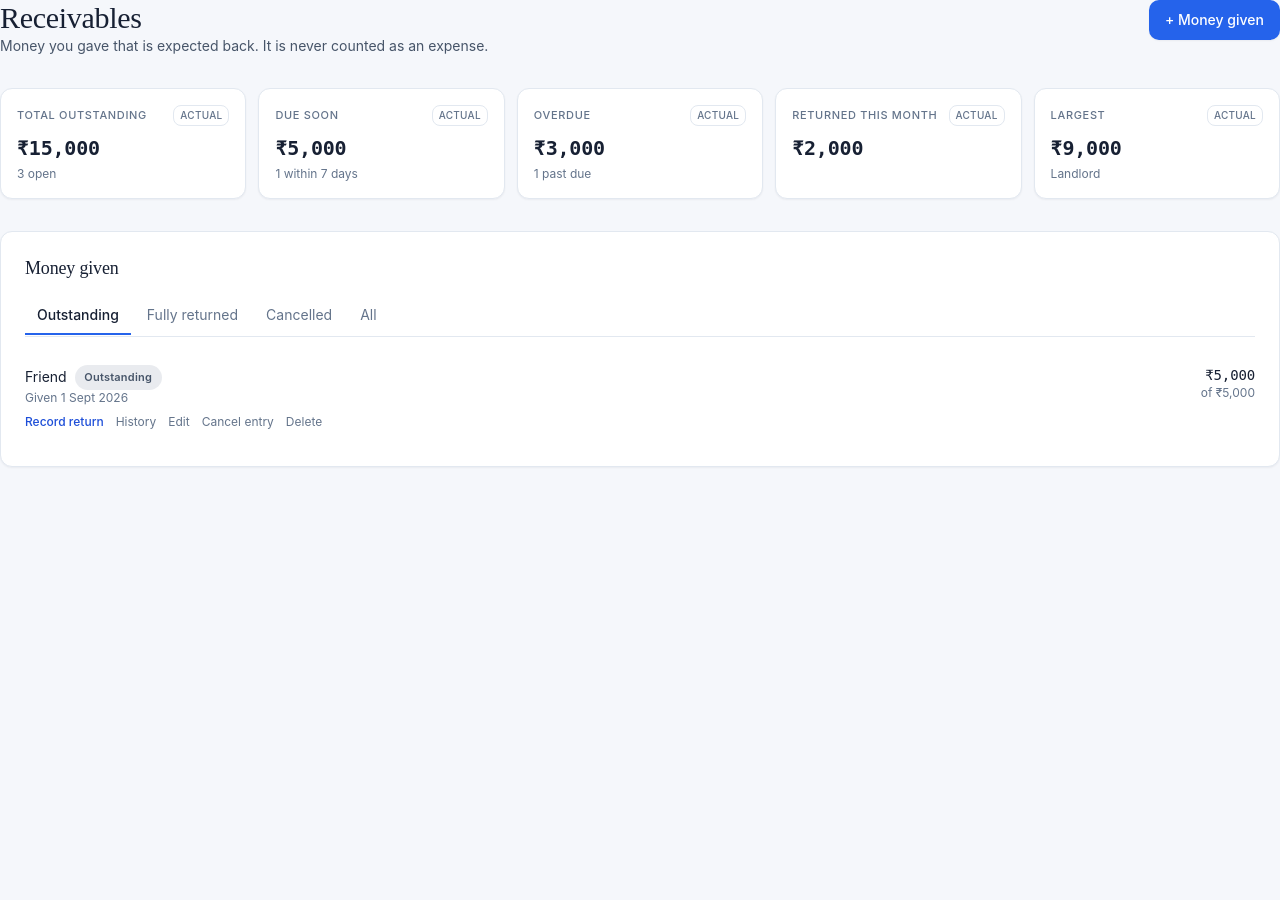
ReceivablesPage › recording a return (Part 57) › 'Full' fills in everything that is outstanding
Check: the text "Friend" is shown, box top-left (25, 368), bottom-right (67, 385)
Click the button "Record return". click: click(64, 422)
box: top-left (25, 414), bottom-right (104, 430)
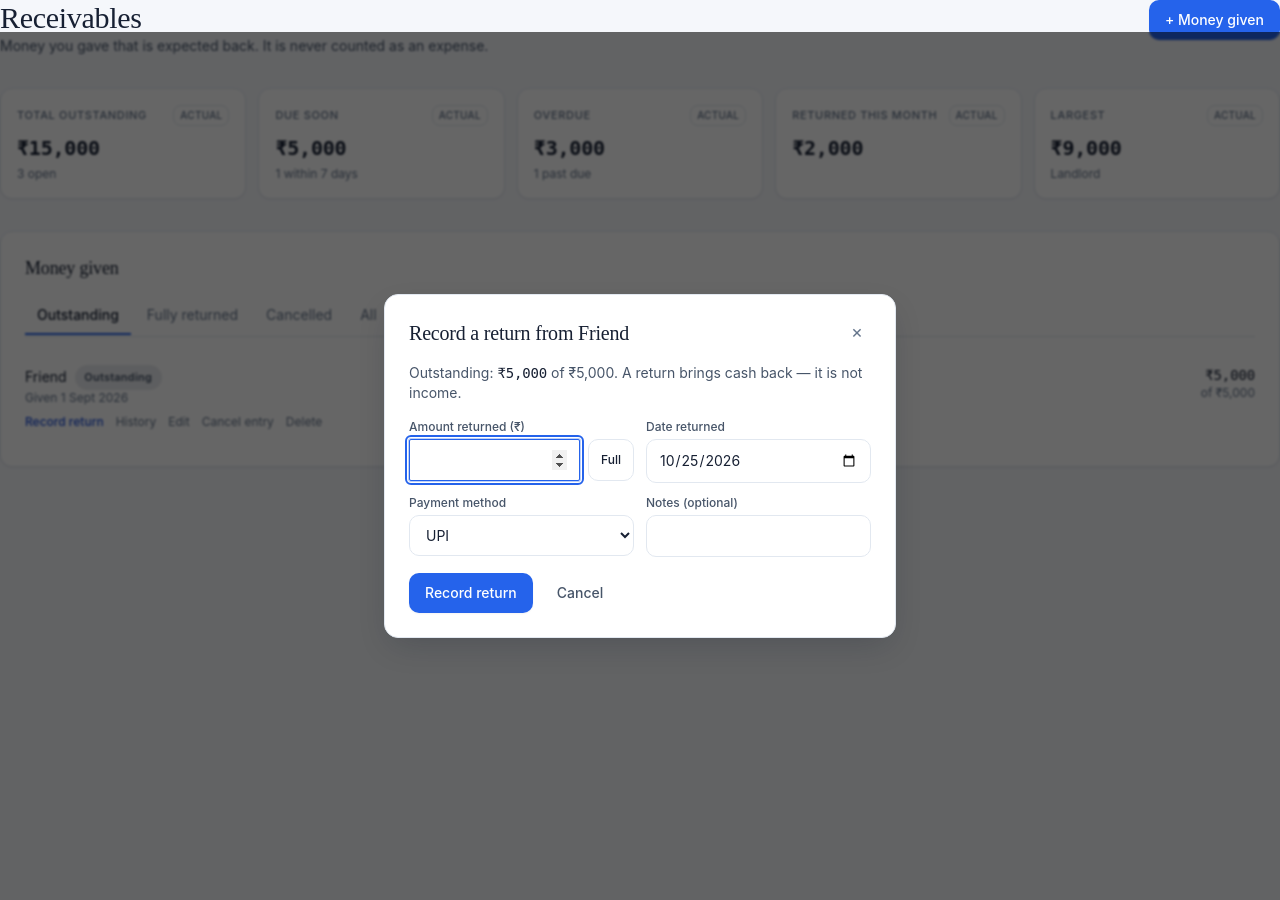
Click the button "Full". click: click(611, 460)
box: top-left (588, 439), bottom-right (634, 481)
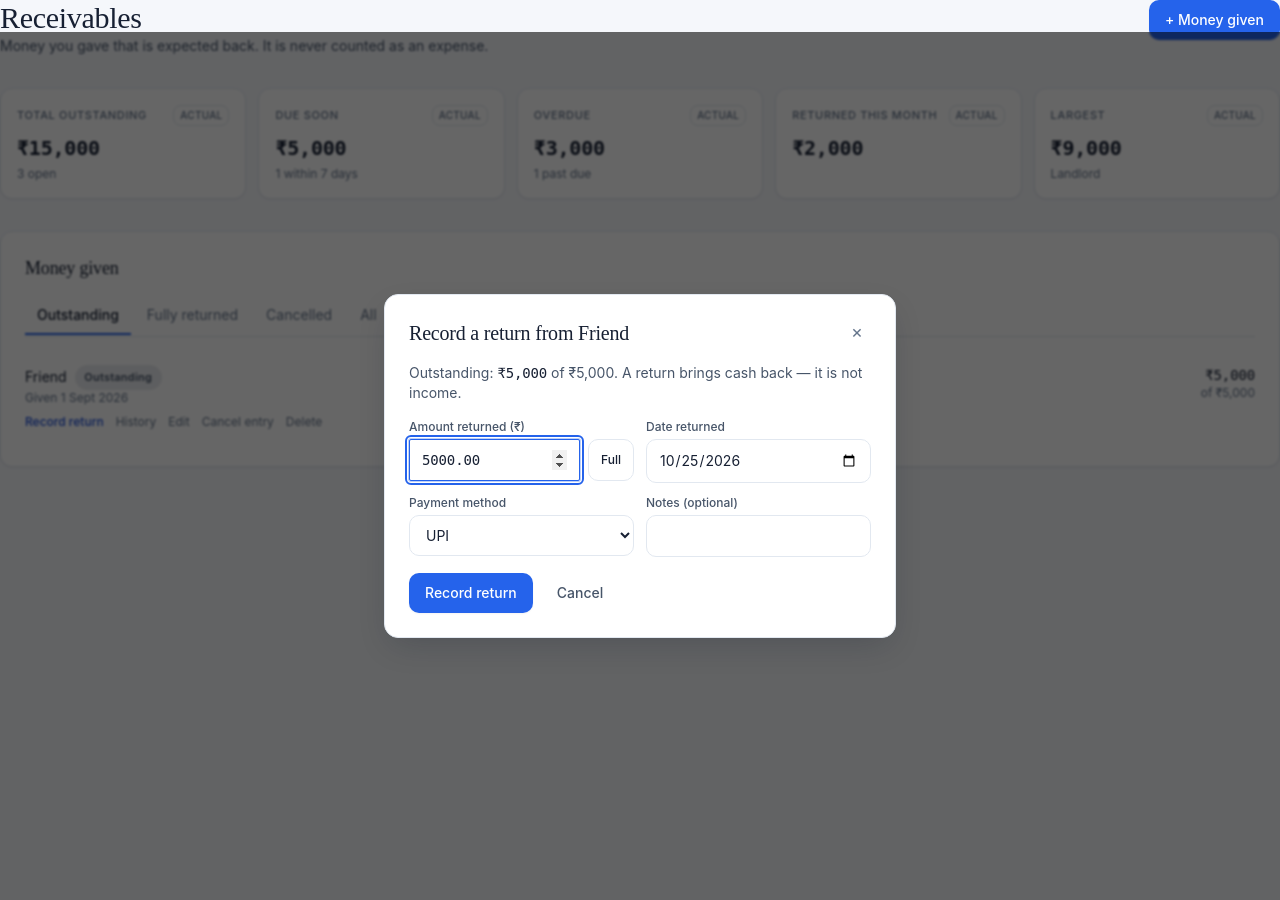
Check: the number field labelled "Amount returned (₹)" holds "5000", box top-left (409, 439), bottom-right (580, 481)
